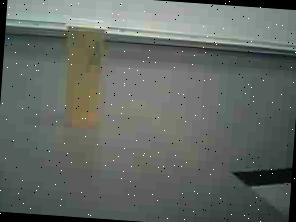Bottle A: (54, 13, 115, 135)
